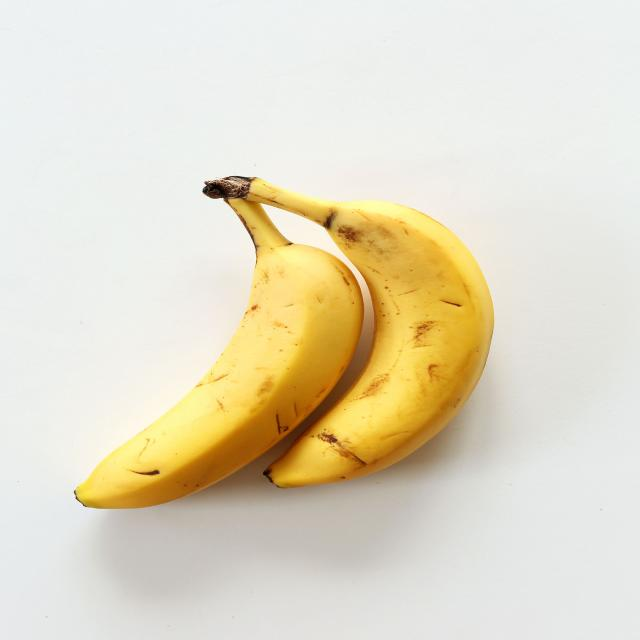banana: (80, 178, 494, 522)
